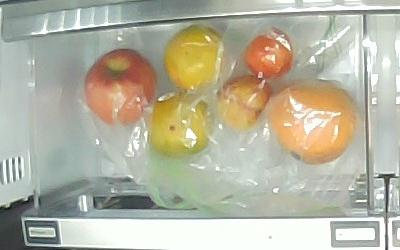apple_vinyl: (84, 48, 158, 127)
grapefruit_vinyl: (267, 81, 358, 165)
persimmon_vinyl: (146, 93, 212, 159), (164, 24, 227, 93)
prune_vinyl: (217, 75, 273, 129), (245, 28, 294, 79)
